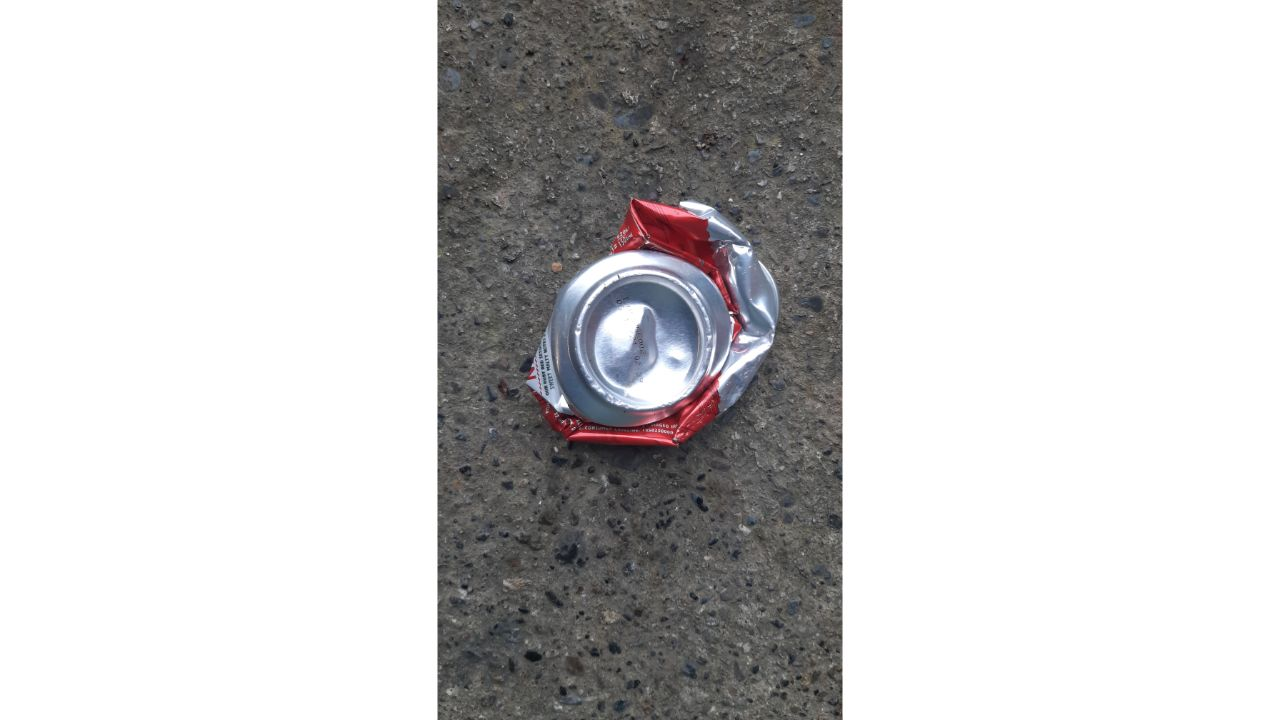Can: (524, 196, 780, 452)
